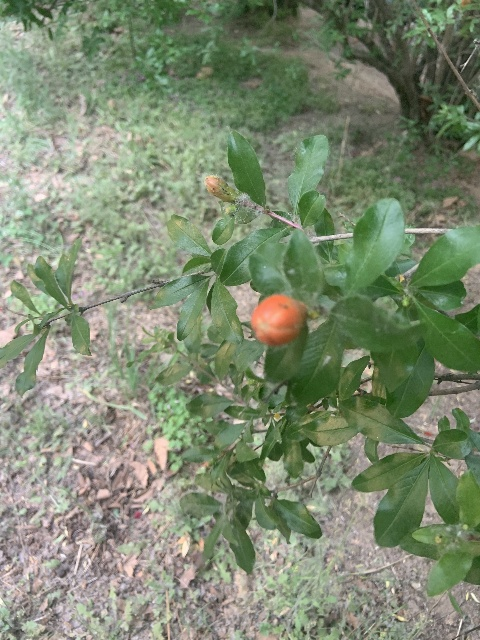bud: (251, 294, 306, 346), (204, 174, 236, 201)
